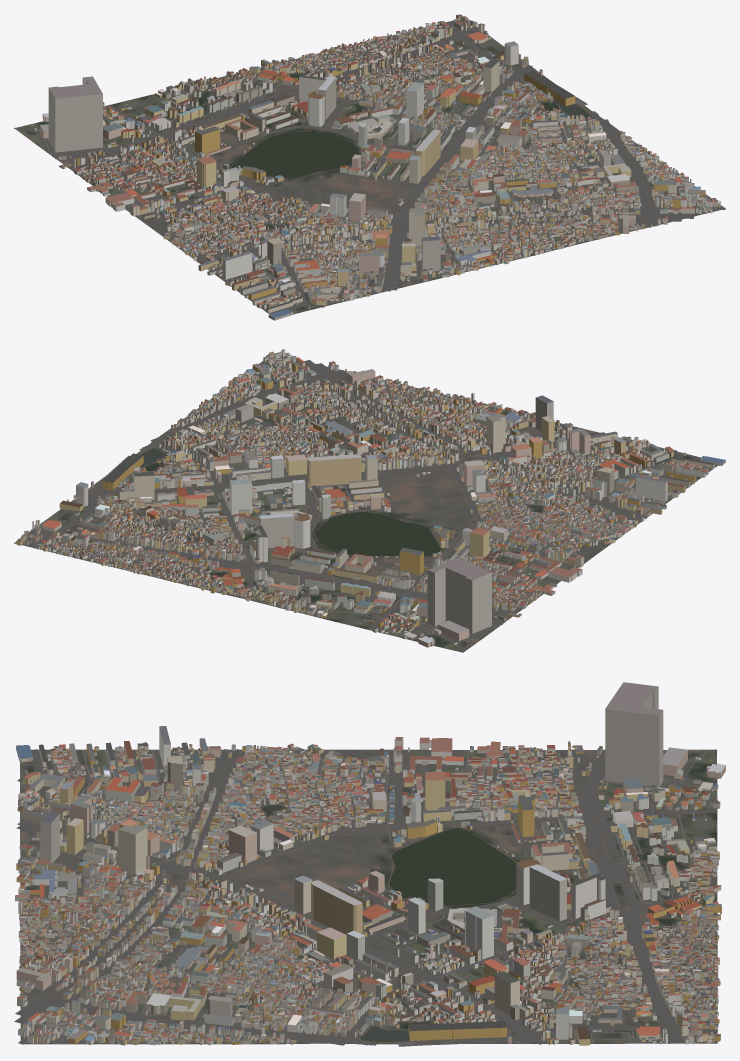
3 views of the same model, one above another, from view 1: azimuth 30°, elevation 25°; view 2: azimuth 150°, elevation 25°; view 3: azimuth 270°, elevation 25° (orthographic). The views are drawn at different scales.
Parts seen in each view (by area): view 1: buildings, ground, roads, water; view 2: buildings, ground, roads, water; view 3: buildings, ground, roads, water.
Boxes of the visible parts, x1=… form: buildings: x1=31, y1=14, x2=720, y2=320; ground: x1=14, y1=19, x2=725, y2=314; roads: x1=14, y1=20, x2=725, y2=314; water: x1=231, y1=45, x2=595, y2=229; buildings: x1=16, y1=349, x2=725, y2=647; ground: x1=14, y1=355, x2=715, y2=652; roads: x1=26, y1=353, x2=717, y2=652; water: x1=74, y1=407, x2=541, y2=556; buildings: x1=15, y1=682, x2=725, y2=1045; ground: x1=20, y1=749, x2=717, y2=1044; roads: x1=14, y1=749, x2=718, y2=1046; water: x1=145, y1=807, x2=647, y2=1041.
Bounding box in the file's own units: 1440 × 163 × 1432.
